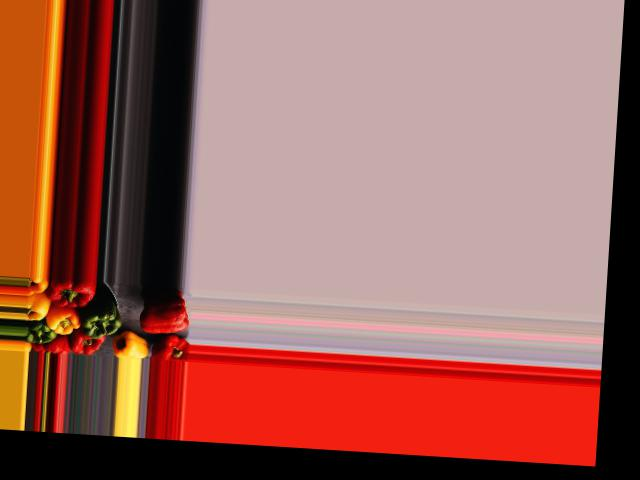bell_pepper: (150, 334, 191, 359)
